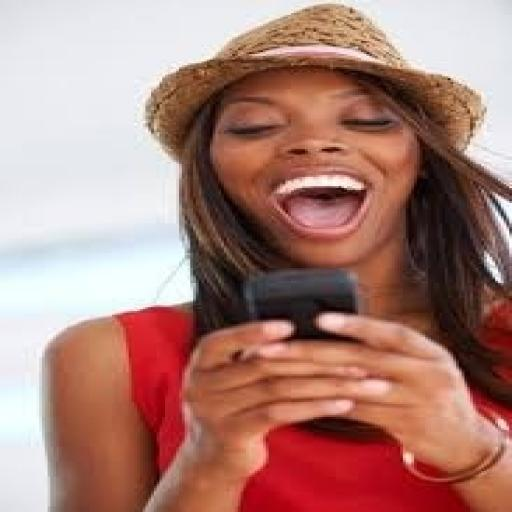laughing: (34, 0, 509, 510)
